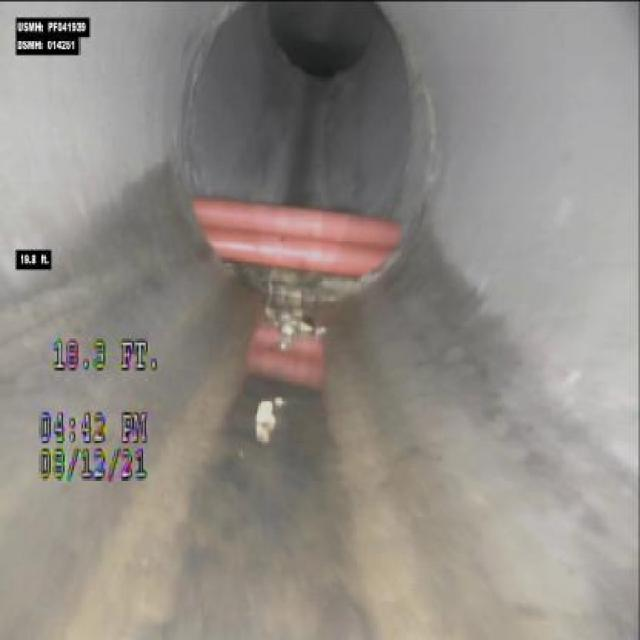Utility intrusion: (189, 200, 408, 280), (244, 321, 336, 394)
